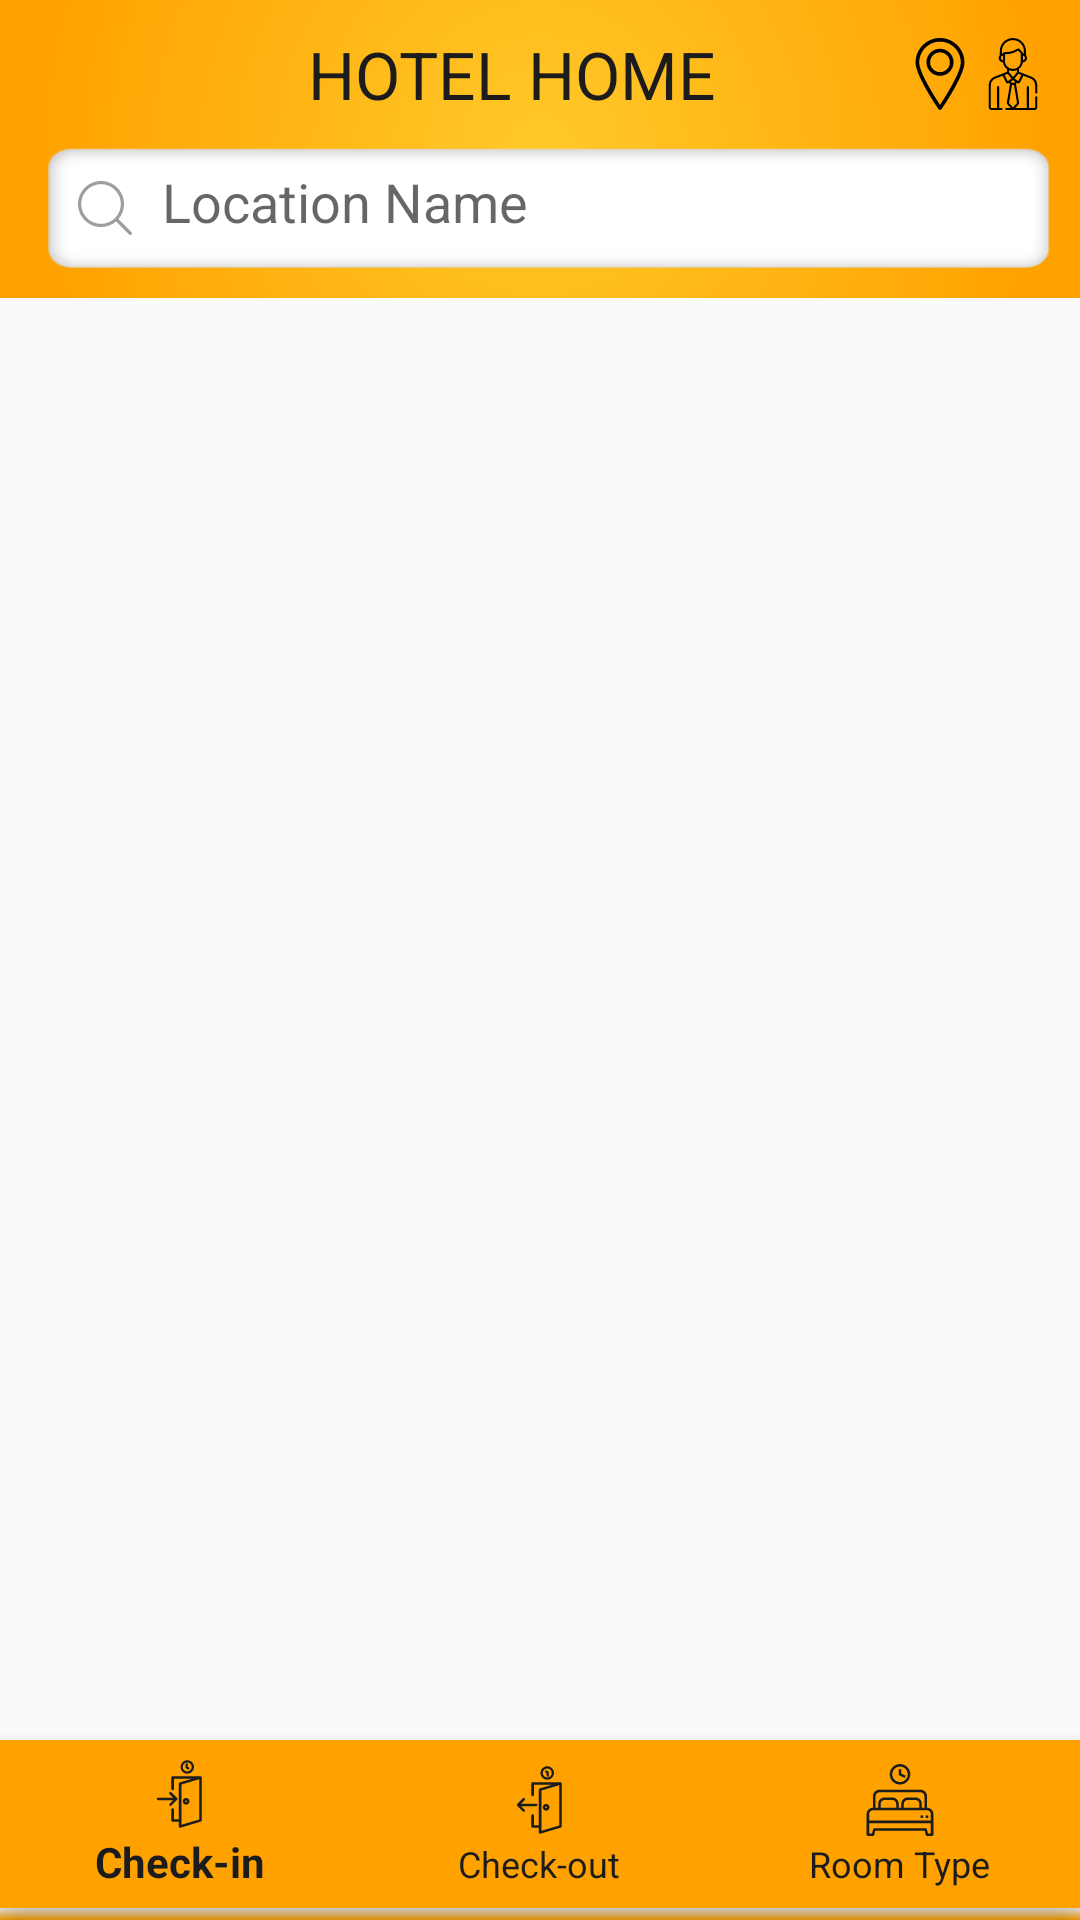

Locate icon controls on the screen. Image size 1080px x 1920px, boxes as bbox(x1, y1, x2, y2).
person: bbox(988, 38, 1038, 110)
